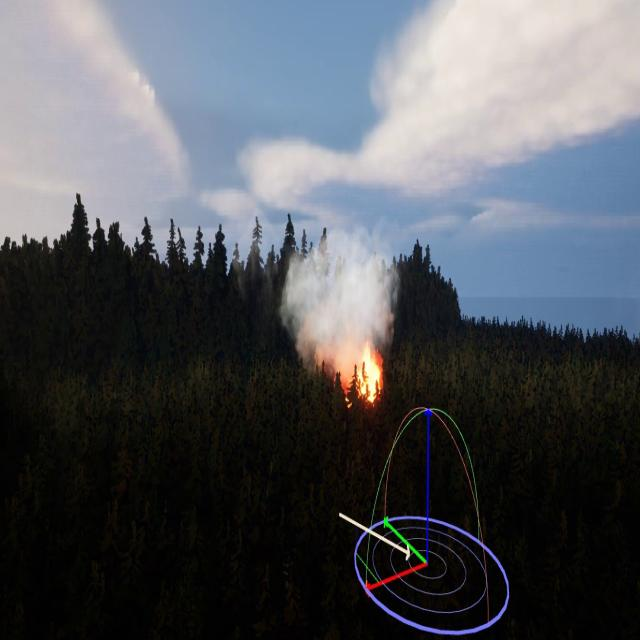fire: (352, 340, 388, 406)
smoke: (279, 219, 399, 378)
